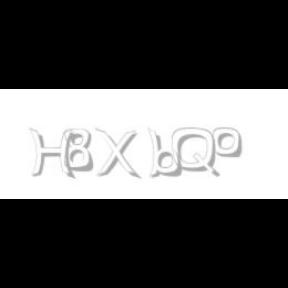8: (65, 128, 94, 172)
H: (29, 128, 75, 180)
Q: (172, 128, 218, 178)
X: (94, 128, 138, 180)
b: (147, 128, 185, 178)
o: (212, 128, 242, 158)
